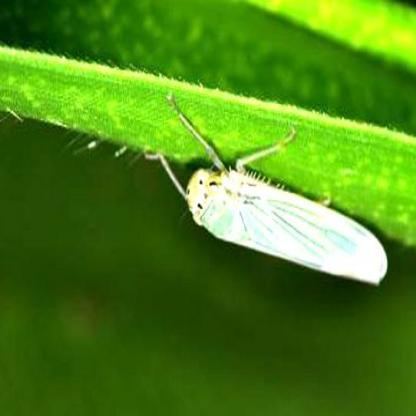green-leafhopper: (168, 124, 389, 288)
